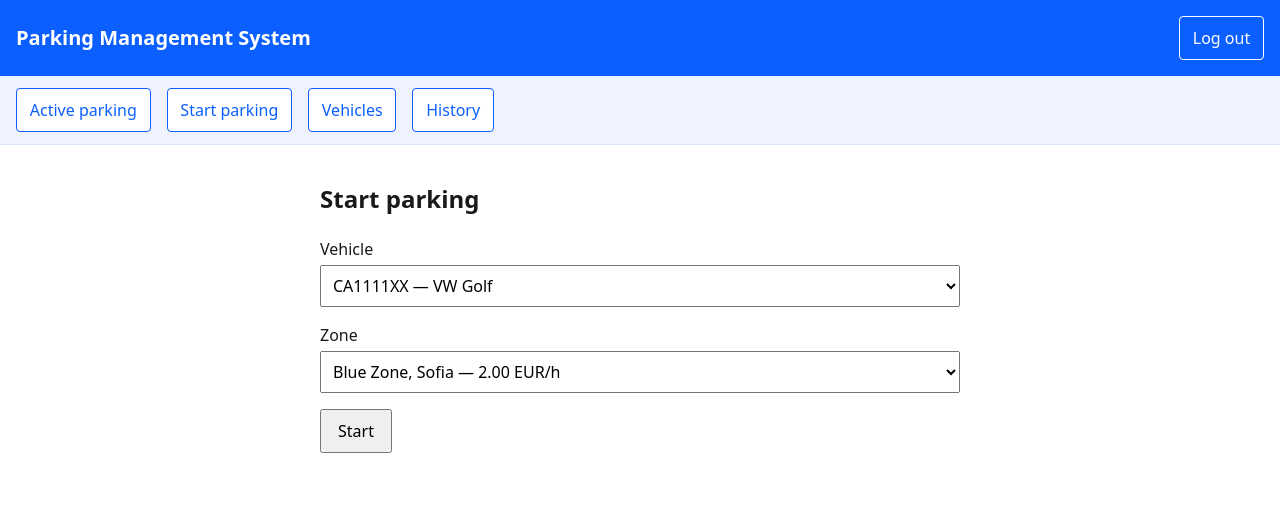
Test case: ParkPage › on a 409 with no blocking session id, and the re-read finds nothing, still shows the unsettled message rather than a zone message
Click the button "Start" at {"x": 356, "y": 431}, box [320,409,392,453]
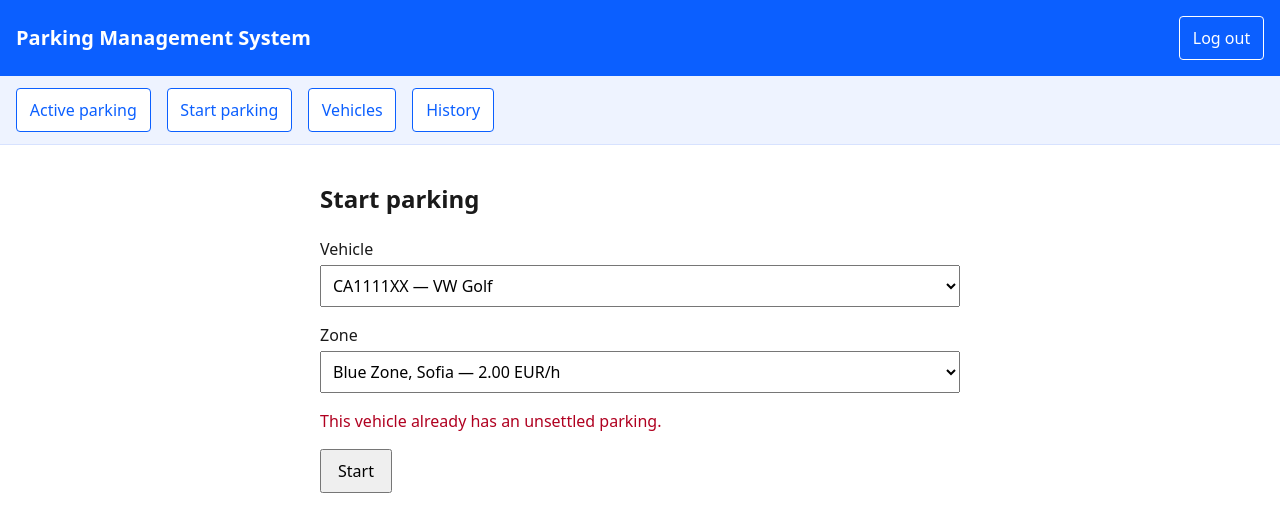
Expected: the message shows "already has an unsettled parking", [320,410,662,432]
